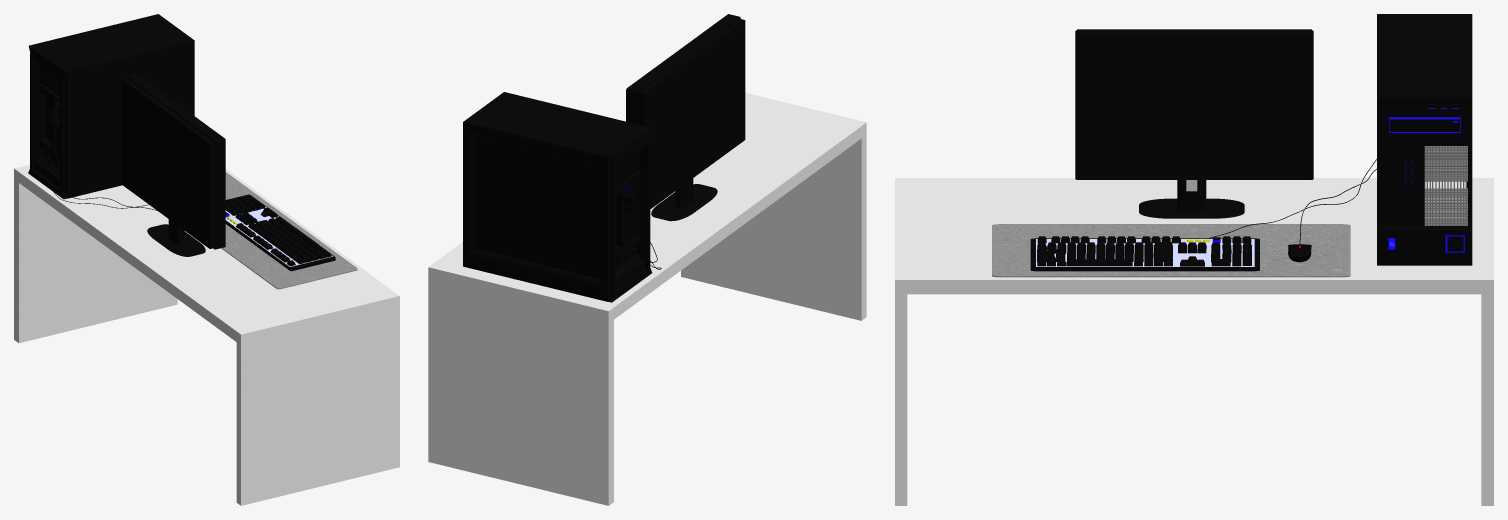
File: computer.glb
3 views of the same model, side by side, from view 1: azimuth 30°, elevation 25°; view 2: azimuth 150°, elevation 25°; view 3: azimuth 270°, elevation 25° (orthographic). The views are drawn at different scales.
Visible parts, largest first — view 1: table, cabinet, monitor, mouse pad, keys, keyboard, rgb; view 2: table, cabinet, monitor; view 3: table, monitor, cabinet, mouse pad, keys, Grill, keyboard, rgb.
Boxes of the visible parts, x1,y1,x2,y2 form: table: (14,164,399,505); cabinet: (28,14,194,199); monitor: (121,73,225,256); mouse pad: (221,172,357,289); keys: (225,194,331,266); keyboard: (225,194,335,271); rgb: (225,197,332,266); table: (428,93,866,505); cabinet: (463,92,652,302); monitor: (626,14,745,221); table: (895,178,1493,505); monitor: (1075,29,1313,218); cabinet: (1377,14,1472,265); mouse pad: (992,224,1350,277); keys: (1037,236,1251,266); Grill: (1424,146,1467,225); keyboard: (1030,238,1259,271); rgb: (1036,239,1254,266).
Size of the model in its own units: 3.11 by 5.6 by 7.58.
20 materials, 1 textured.
